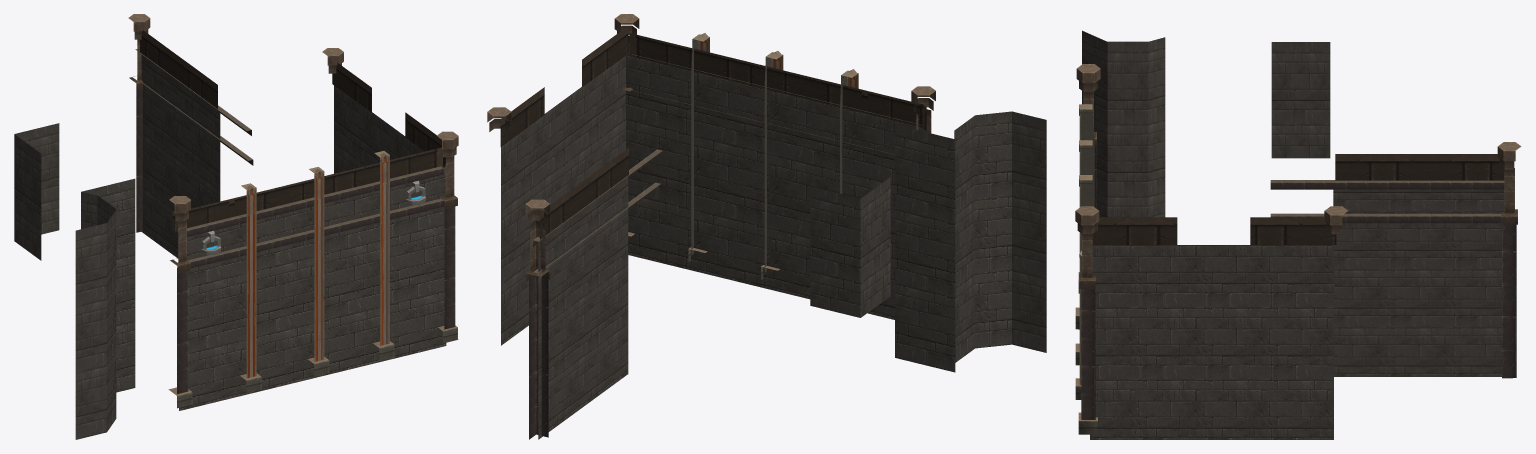
The model's file is terrain_section03_guanka1204.FBX.
3 renders of one model, left to right at view 1: azimuth 30°, elevation 25°; view 2: azimuth 150°, elevation 25°; view 3: azimuth 270°, elevation 25°, orthographic. The views are drawn at different scales.
Visible parts, largest first — view 1: terrain_section03_guanka1204; view 2: terrain_section03_guanka1204; view 3: terrain_section03_guanka1204.
Part boxes in pixels (<box>): terrain_section03_guanka1204: <box>14,14,458,439</box>; terrain_section03_guanka1204: <box>487,14,1046,439</box>; terrain_section03_guanka1204: <box>1075,30,1521,439</box>.
Size of the model in its own units: 52.73 by 28.24 by 48.99.
